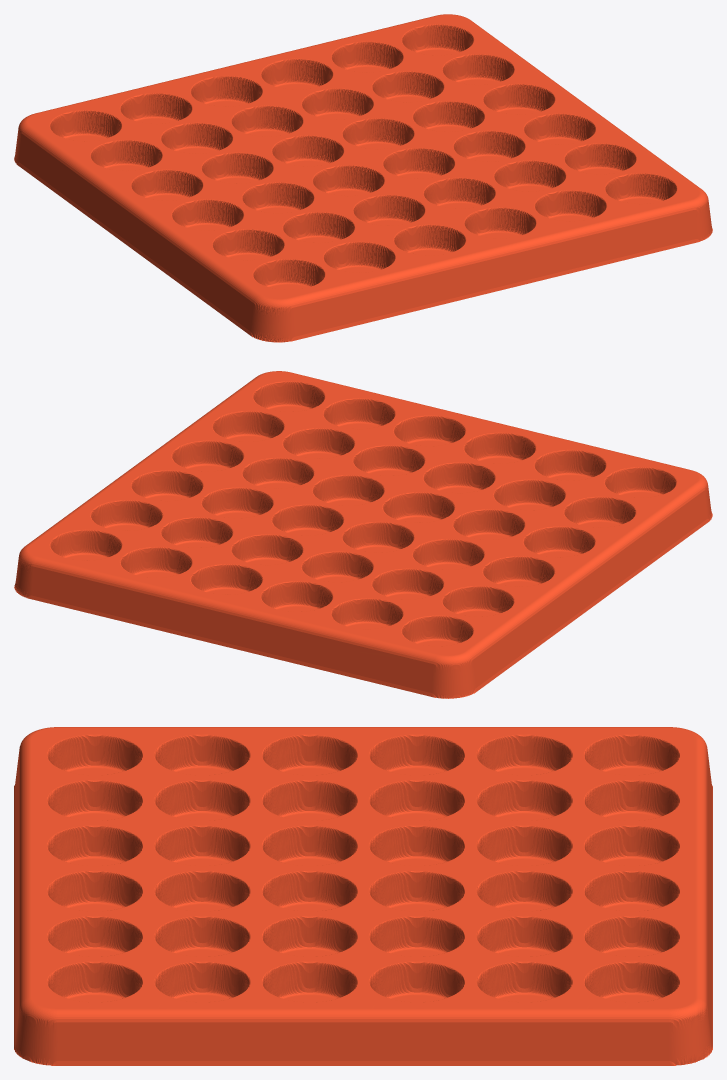
File: mold.glb
The picture shows the model from 3 angles, top to bottom: view 1: azimuth 30°, elevation 25°; view 2: azimuth 150°, elevation 25°; view 3: azimuth 270°, elevation 25°; orthographic projection. The views are drawn at different scales.
Parts seen in each view (by area): view 1: geometry_0; view 2: geometry_0; view 3: geometry_0.
Boxes of the visible parts, x1,y1,x2,y2 form: geometry_0: (14,14,712,342); geometry_0: (14,371,712,698); geometry_0: (14,727,712,1065).
Bounding box in the file's own units: 0.1447 × 0.0114 × 0.1447.
